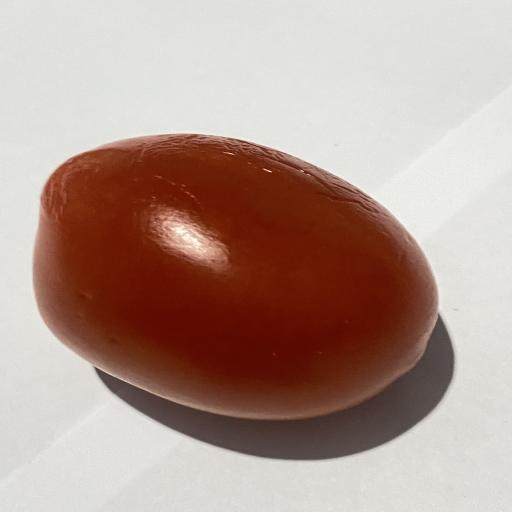spoiled: (34, 134, 437, 420)
